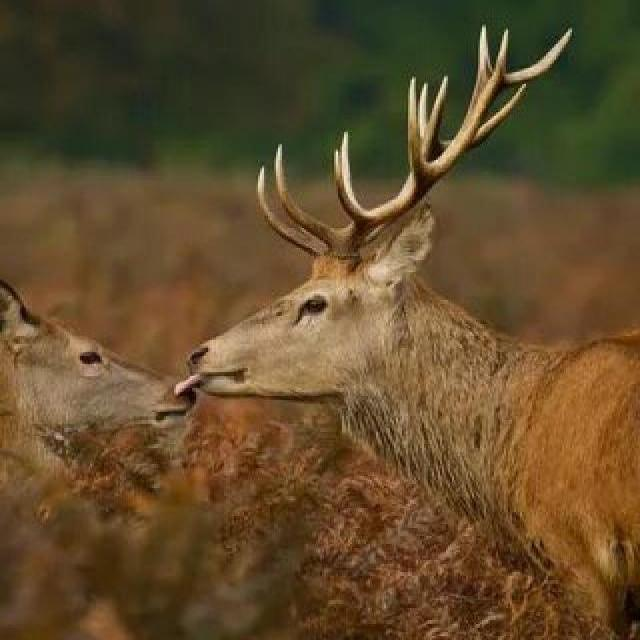deer: (141, 168, 640, 640), (0, 231, 215, 554)
